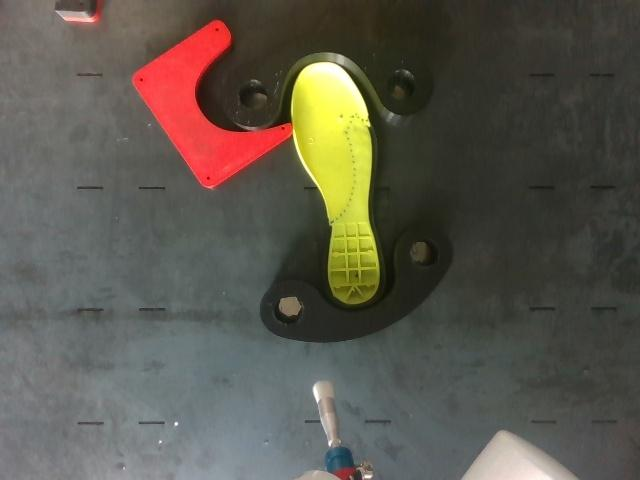shoes: (293, 63, 385, 307)
